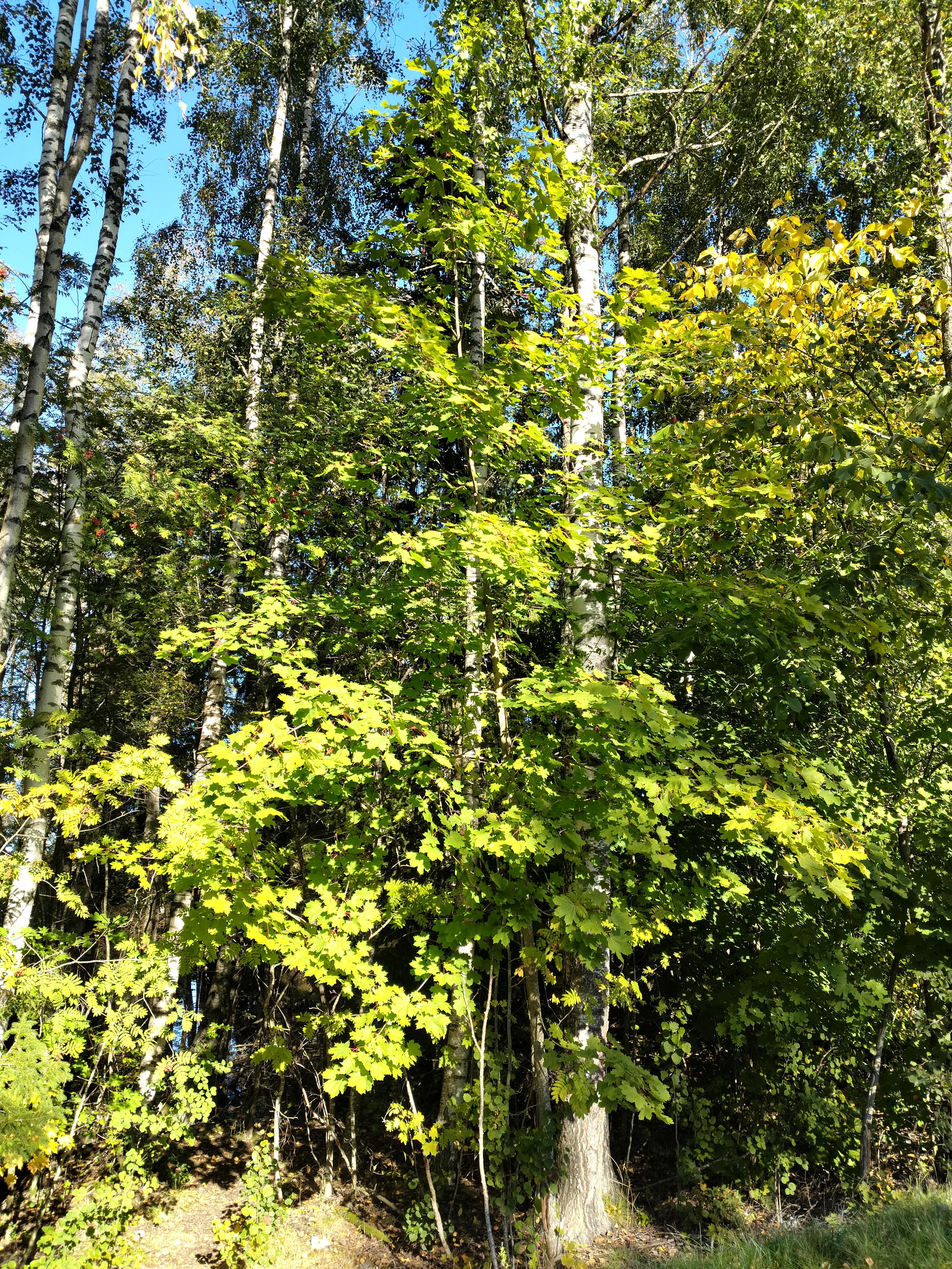Maple: (213, 689, 889, 1269)
